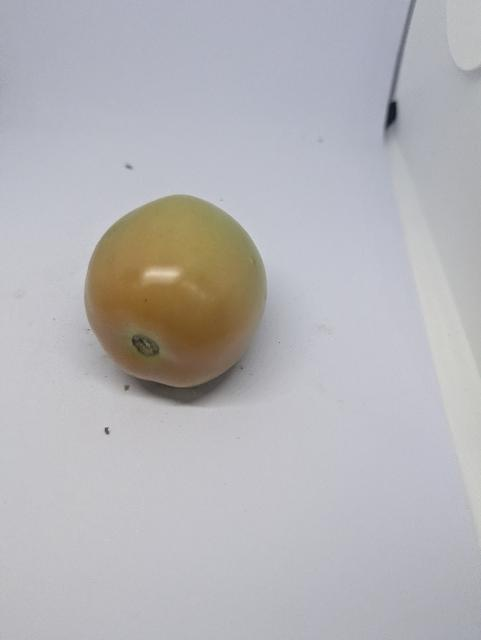breaker: (85, 195, 267, 387)
